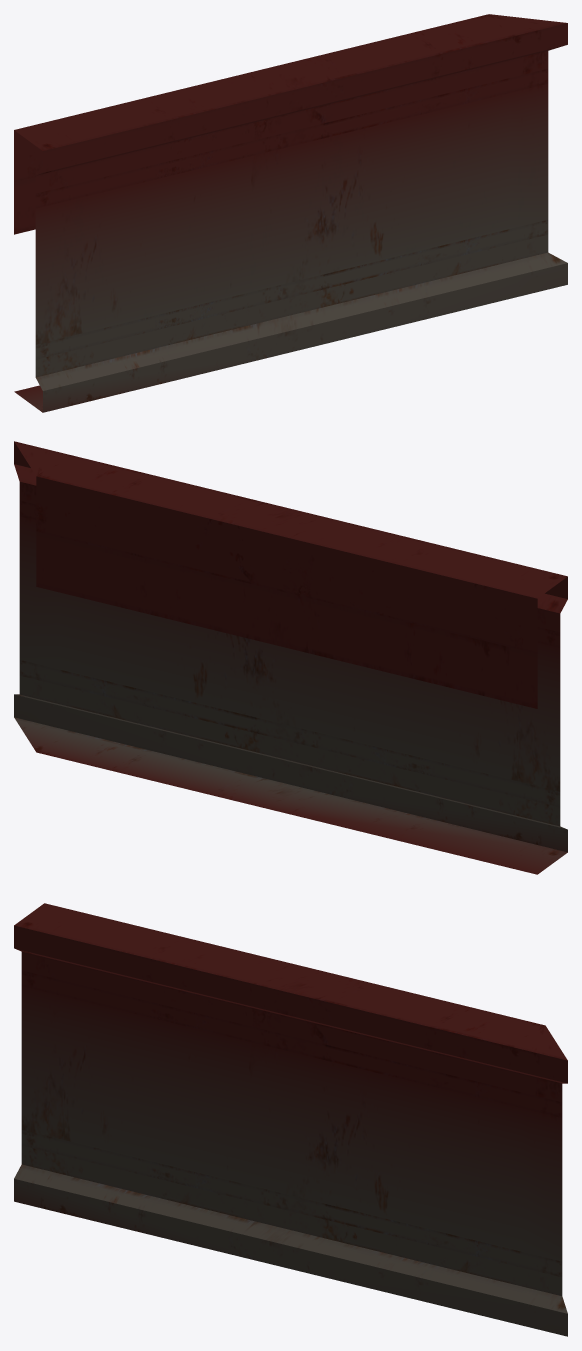
File: Cornice_Metal_R.gltf
3 views of the same model, one above another, from view 1: azimuth 30°, elevation 25°; view 2: azimuth 150°, elevation 25°; view 3: azimuth 330°, elevation 25° (orthographic). The views are drawn at different scales.
Visible parts, largest first — view 1: Cornice_Metal_R; view 2: Cornice_Metal_R; view 3: Cornice_Metal_R.
Boxes of the visible parts, <box> form: Cornice_Metal_R: <box>14,14,567,412</box>; Cornice_Metal_R: <box>14,441,567,874</box>; Cornice_Metal_R: <box>14,903,567,1336</box>.
Size of the model in its own units: 2.1 by 1 by 0.2.
Materials: 1 (1 with a texture image).
